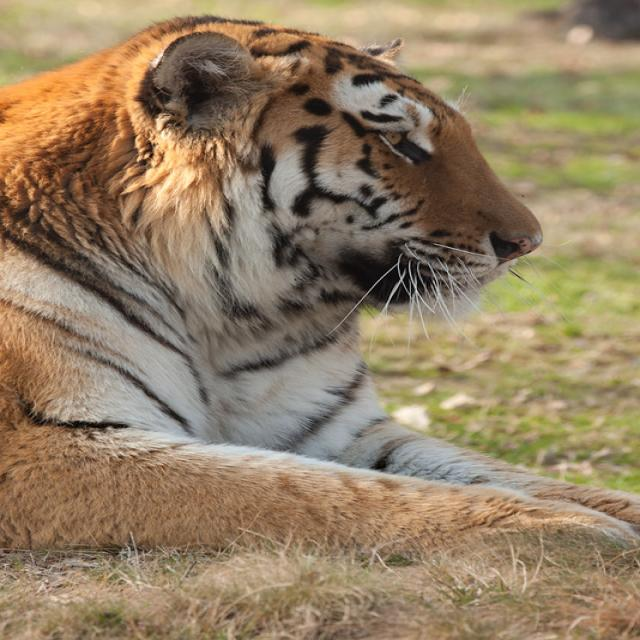Tiger: (13, 12, 609, 562)
